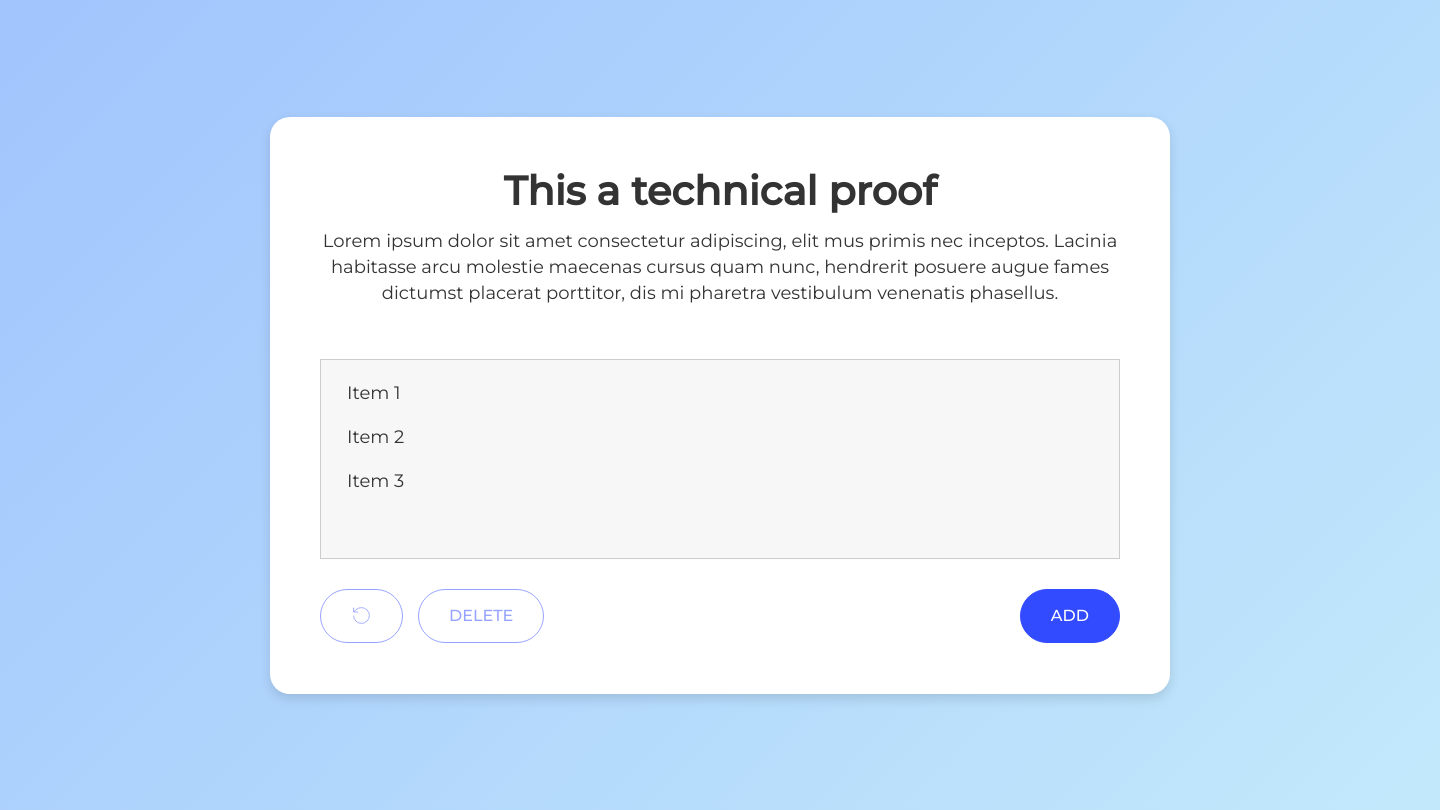
Test: Home › opens the modal when clicking Add
Click the button "Add": (1070, 616) [1020,589,1120,643]
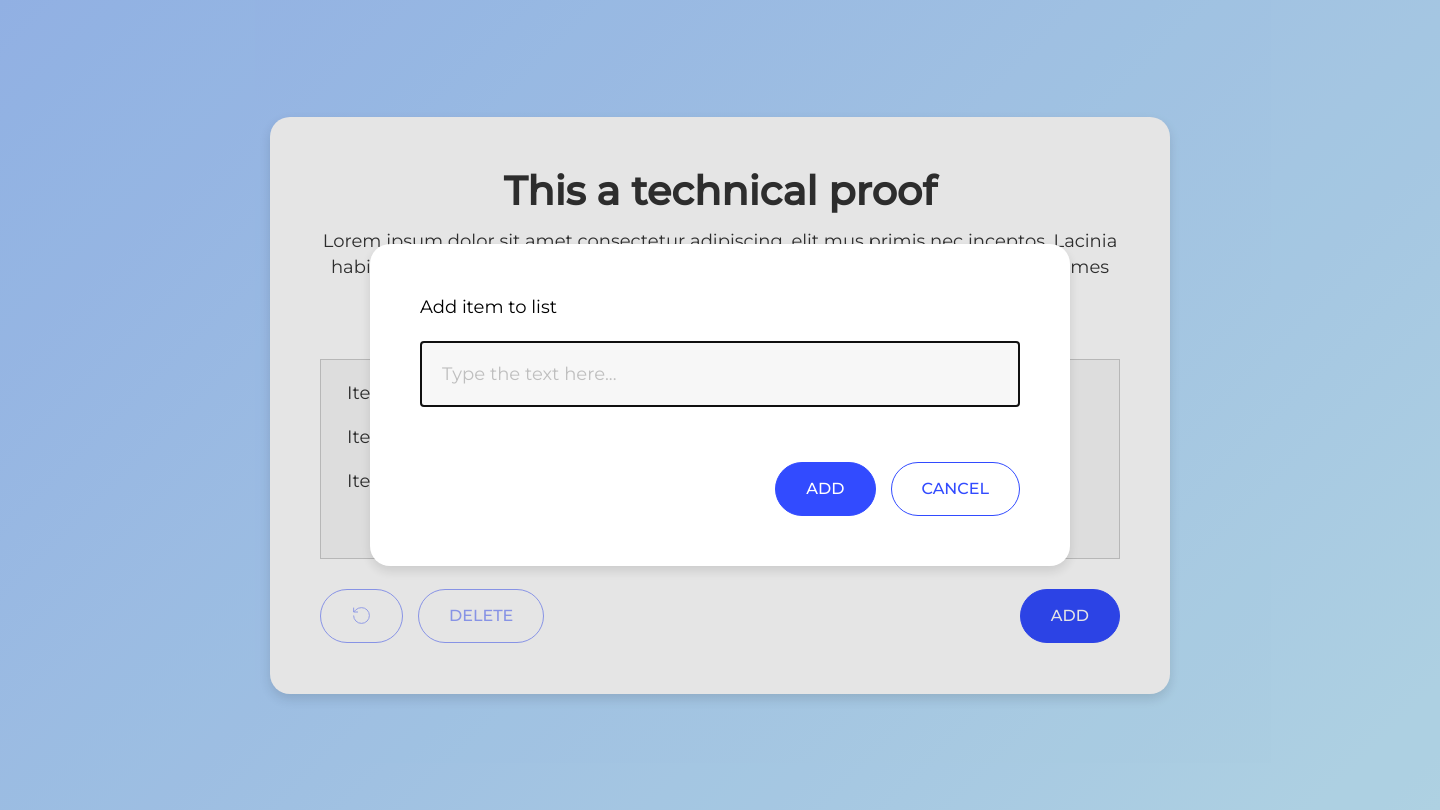
Check: the text "Add item to list" is shown, box [420,296,557,318]
Check: the button "Cancel" is shown, box [890,462,1020,516]
